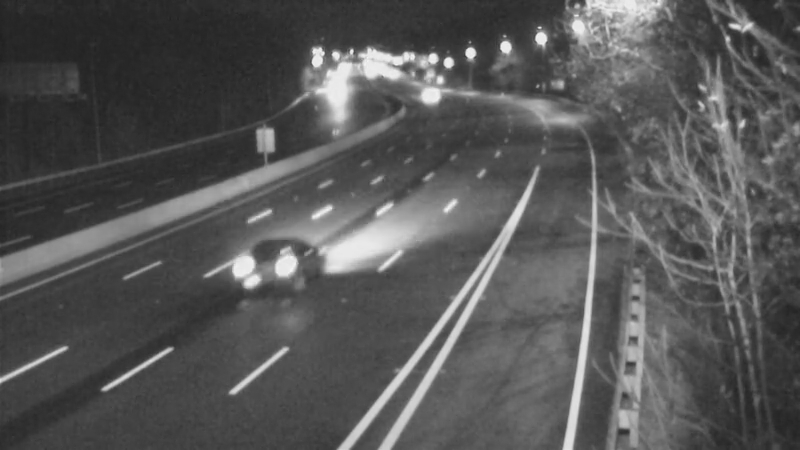vehicle: (220, 240, 300, 320), (401, 71, 451, 121), (308, 69, 358, 119)
